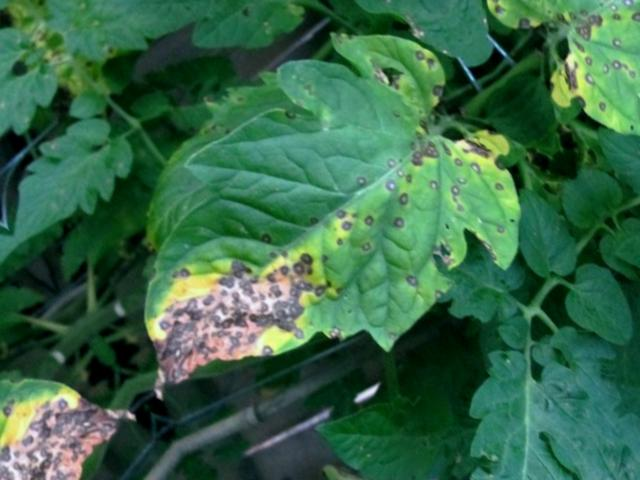Tomato Septoria leaf spot: (46, 0, 568, 480)
